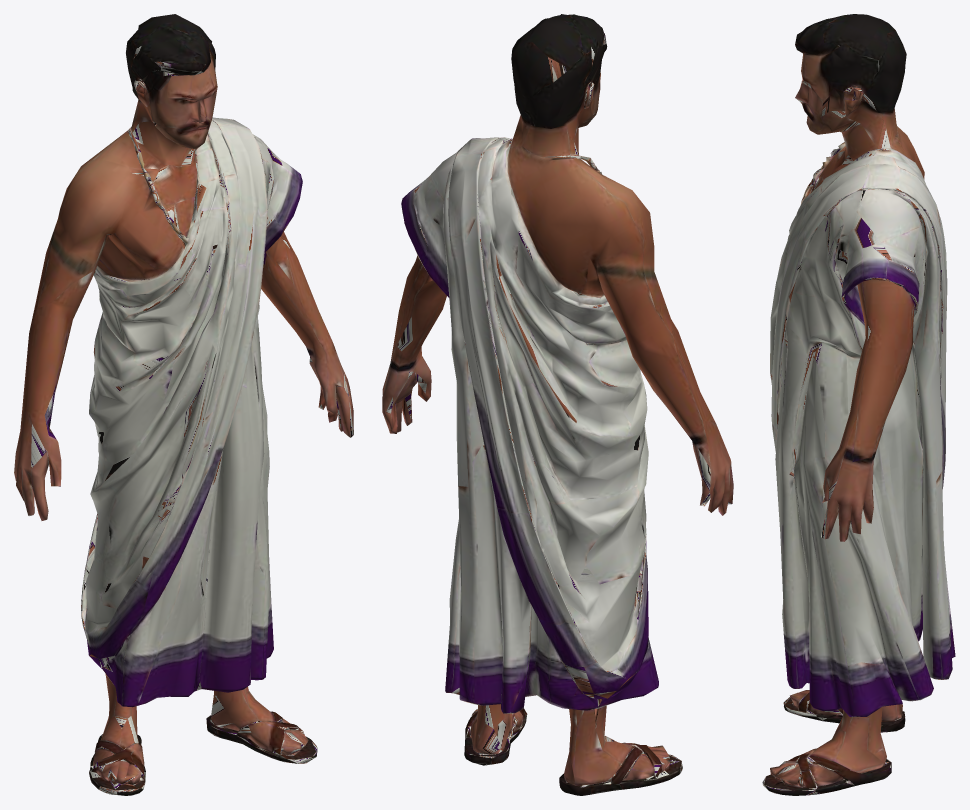
File: edil.glb
3 renders of one model, left to right at view 1: azimuth 30°, elevation 25°; view 2: azimuth 150°, elevation 25°; view 3: azimuth 270°, elevation 25°, orthographic. The views are drawn at different scales.
Visible parts, largest first — view 1: edil; view 2: edil; view 3: edil.
Boxes of the visible parts, x1,y1,x2,y2 form: edil: (14, 14, 353, 795); edil: (382, 14, 733, 795); edil: (762, 14, 955, 795).
Bounding box in the file's own units: 0.8491 × 1.8 × 0.4335.
1 material, 1 textured.
